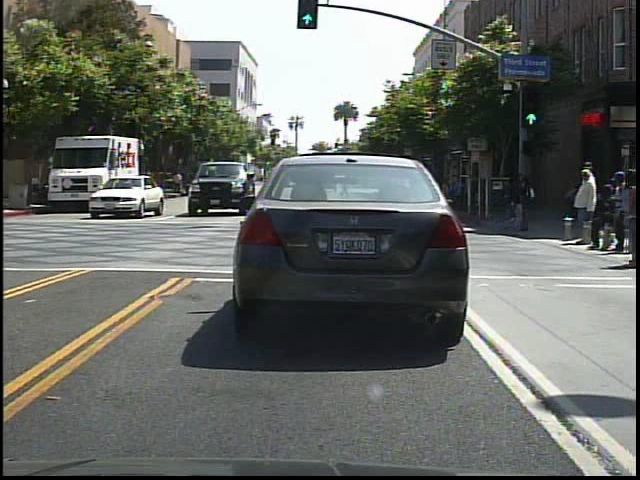person: (506, 166, 541, 237), (500, 170, 533, 241), (573, 165, 599, 250)
